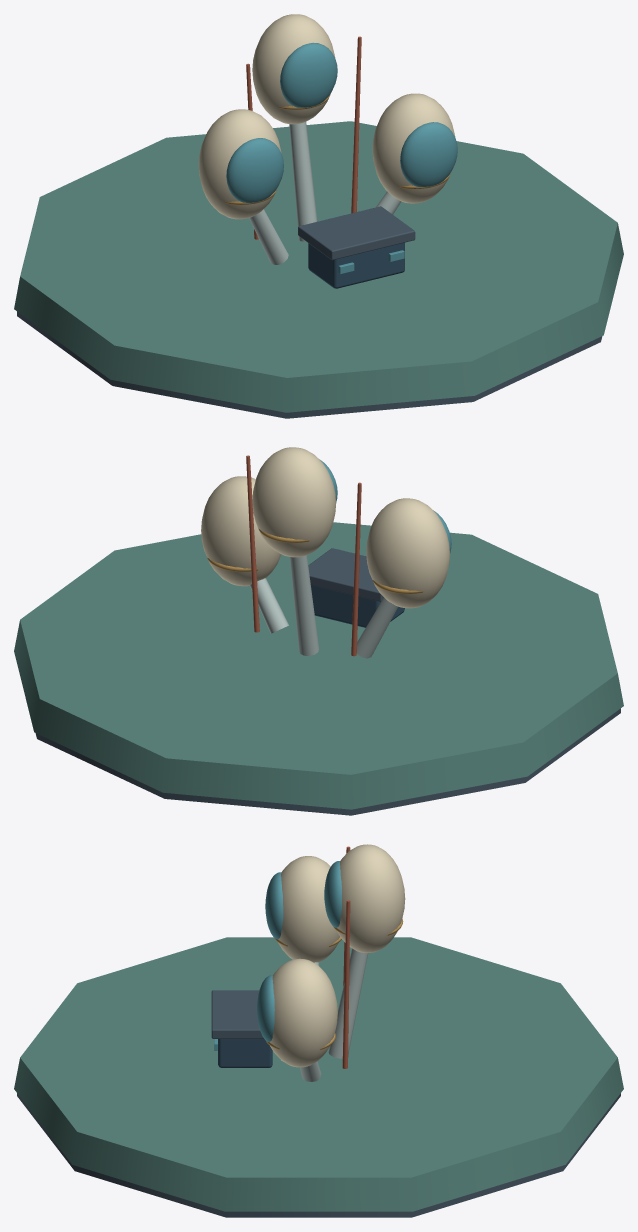
File: tidecomb.glb
3 views of the same model, one above another, from view 1: azimuth 30°, elevation 25°; view 2: azimuth 150°, elevation 25°; view 3: azimuth 270°, elevation 25° (orthographic). The views are drawn at different scales.
Visible parts, largest first — view 1: Terrain cutaway, Nursery pod (×3), Observation blister (×3), Roof slab, Substrate, Umbilical (×2), Habitat pressure shell, Snorkel; view 2: Terrain cutaway, Nursery pod (×3), Umbilical (×3), Substrate, Roof slab, Snorkel (×2), Habitat pressure shell; view 3: Terrain cutaway, Nursery pod (×3), Substrate, Observation blister (×3), Roof slab, Umbilical, Habitat pressure shell, Snorkel.
Boxes of the visible parts, <box> form: Terrain cutaway: <box>14,121,623,412</box>; Nursery pod (×3): <box>198,14,455,219</box>; Observation blister (×3): <box>226,42,457,203</box>; Roof slab: <box>298,206,415,259</box>; Substrate: <box>17,311,602,418</box>; Umbilical (×2): <box>249,122,317,264</box>; Habitat pressure shell: <box>308,242,404,288</box>; Snorkel: <box>351,36,361,213</box>; Terrain cutaway: <box>14,522,623,809</box>; Nursery pod (×3): <box>201,447,449,608</box>; Umbilical (×3): <box>250,555,397,658</box>; Substrate: <box>35,708,620,815</box>; Roof slab: <box>308,548,383,601</box>; Snorkel (×2): <box>246,455,361,656</box>; Habitat pressure shell: <box>311,585,404,627</box>; Terrain cutaway: <box>14,937,623,1211</box>; Nursery pod (×3): <box>270,844,405,1067</box>; Substrate: <box>17,1093,620,1217</box>; Observation blister (×3): <box>257,861,341,1042</box>; Roof slab: <box>211,990,263,1038</box>; Umbilical: <box>328,948,368,1058</box>; Habitat pressure shell: <box>218,1039,272,1067</box>; Snorkel: <box>342,900,350,1068</box>.
Size of the model in its own units: 5.52 by 2.61 by 5.8.
